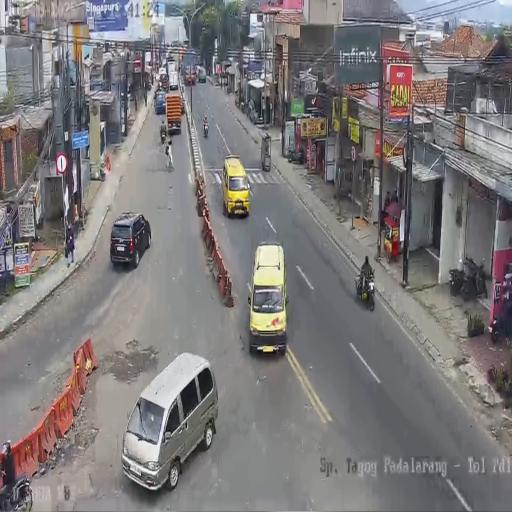car: (120, 352, 218, 490), (247, 242, 288, 354), (110, 210, 152, 268), (220, 155, 250, 219), (185, 63, 197, 86), (154, 92, 166, 114), (158, 67, 168, 83), (197, 66, 206, 82), (154, 72, 160, 87)
motorcycle: (450, 257, 488, 301), (490, 296, 512, 344), (355, 266, 375, 312), (287, 144, 304, 164), (249, 102, 258, 124), (202, 114, 208, 138), (240, 99, 246, 114)
truck: (166, 94, 183, 134), (144, 50, 154, 80), (168, 69, 178, 91)
